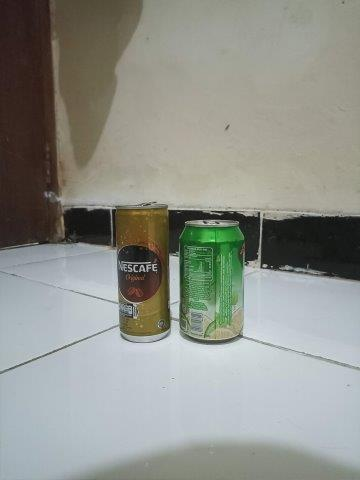kaleng: (179, 219, 246, 345), (115, 201, 171, 343)
